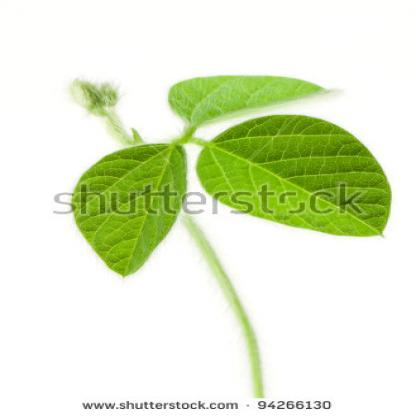soybean leaf: (200, 110, 395, 251), (64, 134, 191, 285), (161, 69, 338, 126)
